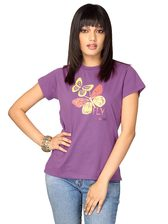clothoes: (32, 56, 150, 187)
